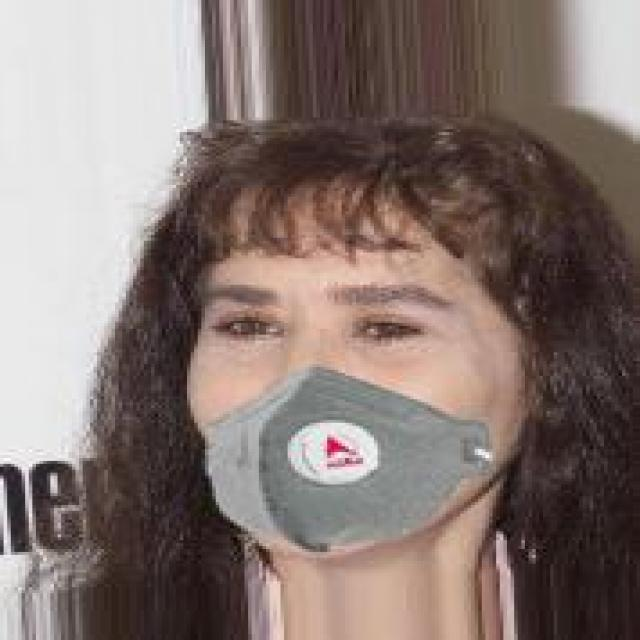mask: (140, 135, 608, 575)
